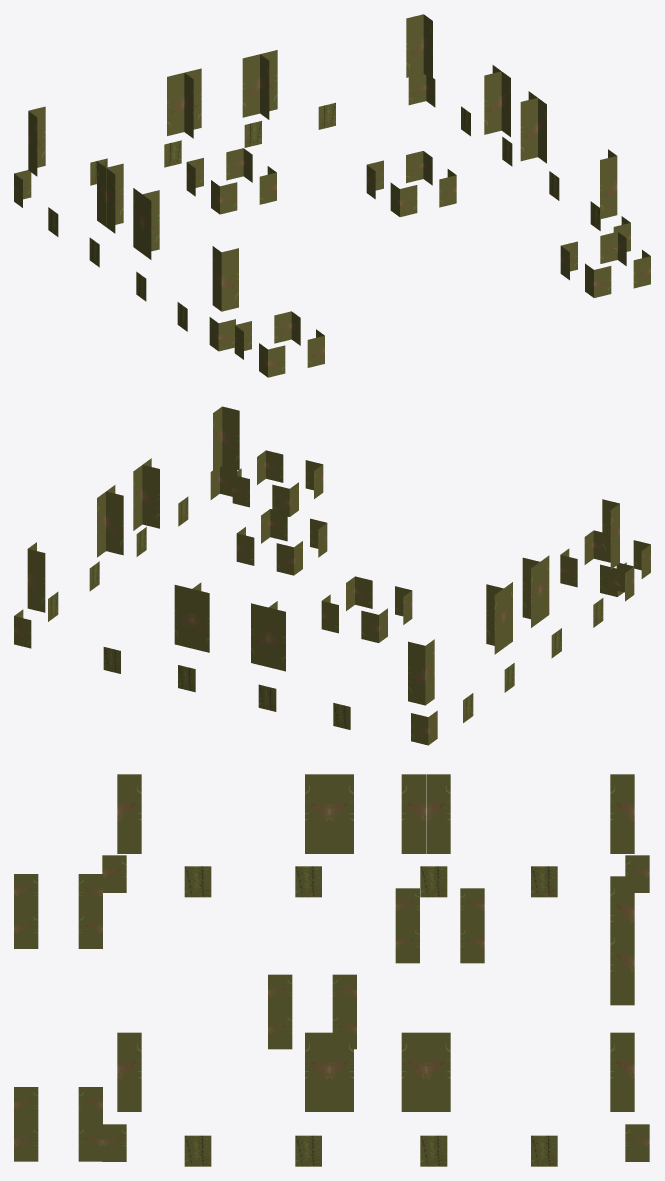
Rendered from palace_f.dae.
3 views of the same model, one above another, from view 1: azimuth 30°, elevation 25°; view 2: azimuth 150°, elevation 25°; view 3: azimuth 270°, elevation 25° (orthographic). The views are drawn at different scales.
Parts seen in each view (by area): view 1: palace_f; view 2: palace_f; view 3: palace_f.
Part boxes in pixels (box(x1,y1,x2,y2)): palace_f: box(14, 14, 650, 377); palace_f: box(14, 406, 650, 745); palace_f: box(14, 774, 649, 1166).
Bounding box in the file's own units: 8.22 × 8.22 × 1.88.
1 material, 1 textured.
